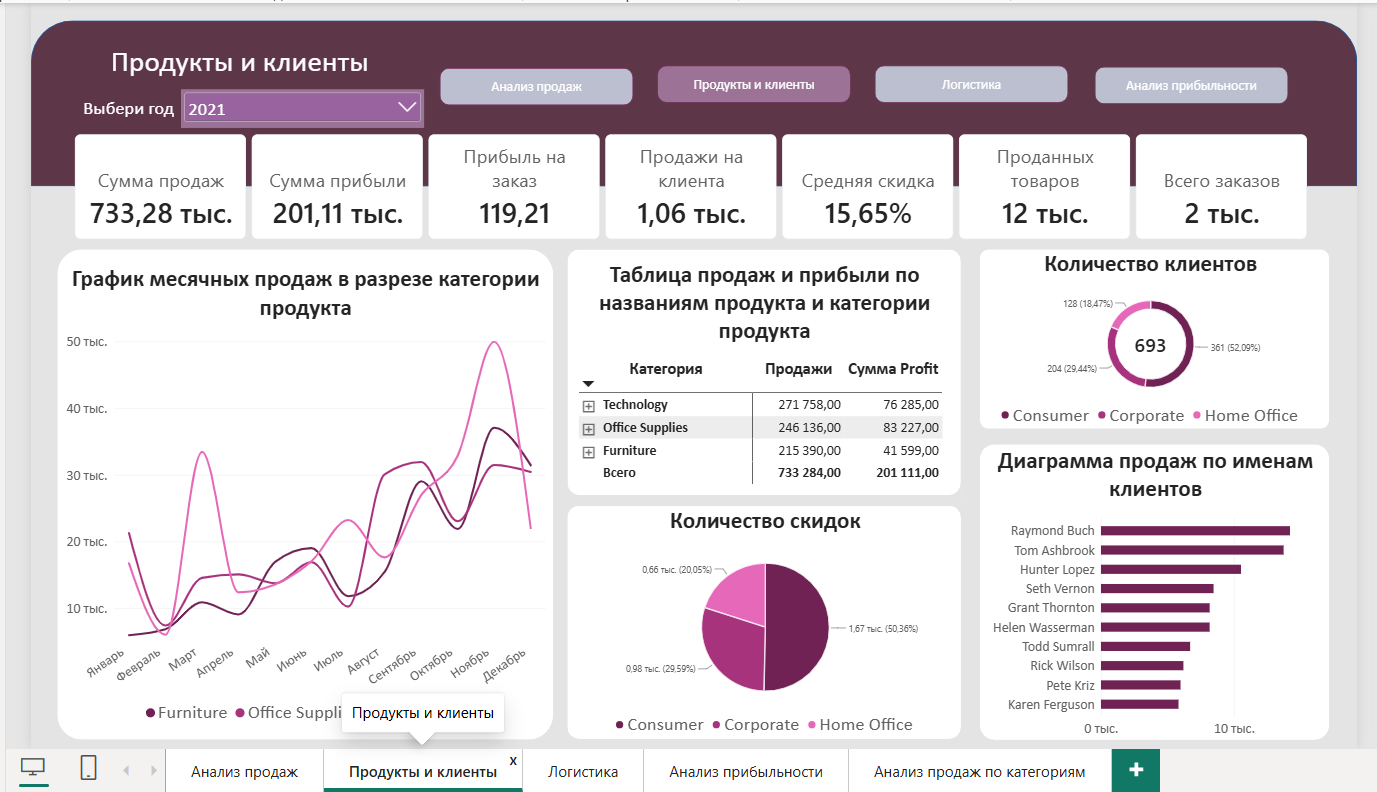

This screenshot's page, from the dashboard's own definition file:
{"tool":"powerbi","page":{"name":"Продукты и клиенты","canvas":[1920,1080],"ordinal":1},"visuals":[{"type":"shape","box":[1374,638,506,428],"z":0},{"type":"shape","box":[1374,356,506,260],"z":1000},{"type":"shape","box":[776,728,570,338],"z":2000},{"type":"shape","box":[776,356,570,356],"z":3000},{"type":"shape","box":[38,356,718,710],"z":4000},{"type":"shape","box":[0,26,1920,240],"z":5000},{"type":"textbox","box":[64,58,478,66],"z":6000},{"type":"textbox","box":[66,134.9,152.6,55.1],"z":7000},{"type":"cardVisual","fields":{"Data":["Меры.Сумма продаж","Меры.Сумма прибыли","Меры.Прибыль на заказ","Меры.Продажи на клиента","Меры.Средняя скидка","Меры.Проданных товаров","Меры.Всего заказов"]},"box":[64,190,1790,152],"z":8000},{"type":"shape","title":"Анализ продаж","box":[592,94,280,54],"z":9000},{"type":"shape","title":"Анализ продаж","box":[1540,92,280,54],"z":10000},{"type":"shape","title":"Анализ продаж","box":[1221.4,91.2,280,54],"z":11000},{"type":"shape","title":"Анализ продаж","box":[906.8,91.2,280,54],"z":12000},{"type":"lineChart","title":"График месячных продаж в разрезе категории продукта ","fields":{"Category":["Sample - Superstore_Orders.Order Date.Изменение.Иерархия дат.Месяц"],"Series":["Sample - Superstore_Orders.Category"],"Y":["Sum(Sample - Superstore_Orders.Sales)"]},"box":[50,378,694,670],"z":13000},{"type":"pivotTable","title":"Таблица продаж и прибыли по названиям продукта и категории продукта","fields":{"Rows":["Sample - Superstore_Orders.Category","Sample - Superstore_Orders.Product Name"],"Values":["Sum(Sample - Superstore_Orders.Sales)","Sum(Sample - Superstore_Orders.Profit)"]},"box":[776,356,570,372],"z":14000},{"type":"barChart","title":"Диаграмма продаж по именам клиентов","fields":{"Category":["Sample - Superstore_Orders.Customer Name"],"Y":["Sum(Sample - Superstore_Orders.Sales)"]},"box":[1388,640,480,426],"z":15000},{"type":"pieChart","title":"Количество скидок","fields":{"Category":["Sample - Superstore_Orders.Segment"],"Y":["CountNonNull(Sample - Superstore_Orders.Discount)"]},"box":[796,728,534,338],"z":16000},{"type":"slicer","fields":{"Values":["Sample - Superstore_Orders.Year"]},"box":[218,124,352,56],"z":17000},{"type":"donutChart","title":"Количество клиентов","fields":{"Category":["Sample - Superstore_Orders.Segment"],"Y":["Count(Sample - Superstore_Orders.Customer Name)"]},"box":[1388,356,466,260],"z":18000}]}

Visuals, with their boxes on the page's 1920x1080 design canvas (x1, y1, x2, y2). These are canvas units, not pixel positions in the 1377x792 screenshot, which may show the page scaled, cropped or inside an application window:
shape: (left=1374, top=638, right=1880, bottom=1066)
shape: (left=1374, top=356, right=1880, bottom=616)
shape: (left=776, top=728, right=1346, bottom=1066)
shape: (left=776, top=356, right=1346, bottom=712)
shape: (left=38, top=356, right=756, bottom=1066)
shape: (left=0, top=26, right=1920, bottom=266)
textbox: (left=64, top=58, right=542, bottom=124)
textbox: (left=66, top=135, right=219, bottom=190)
cardVisual - Меры.Сумма продаж x Меры.Сумма прибыли: (left=64, top=190, right=1854, bottom=342)
"Анализ продаж" shape: (left=592, top=94, right=872, bottom=148)
"Анализ продаж" shape: (left=1540, top=92, right=1820, bottom=146)
"Анализ продаж" shape: (left=1221, top=91, right=1501, bottom=145)
"Анализ продаж" shape: (left=907, top=91, right=1187, bottom=145)
"График месячных продаж в разрезе категории продукта " lineChart: (left=50, top=378, right=744, bottom=1048)
"Таблица продаж и прибыли по названиям продукта и категории продукта" pivotTable: (left=776, top=356, right=1346, bottom=728)
"Диаграмма продаж по именам клиентов" barChart: (left=1388, top=640, right=1868, bottom=1066)
"Количество скидок" pieChart: (left=796, top=728, right=1330, bottom=1066)
slicer - Sample - Superstore_Orders.Year: (left=218, top=124, right=570, bottom=180)
"Количество клиентов" donutChart: (left=1388, top=356, right=1854, bottom=616)
